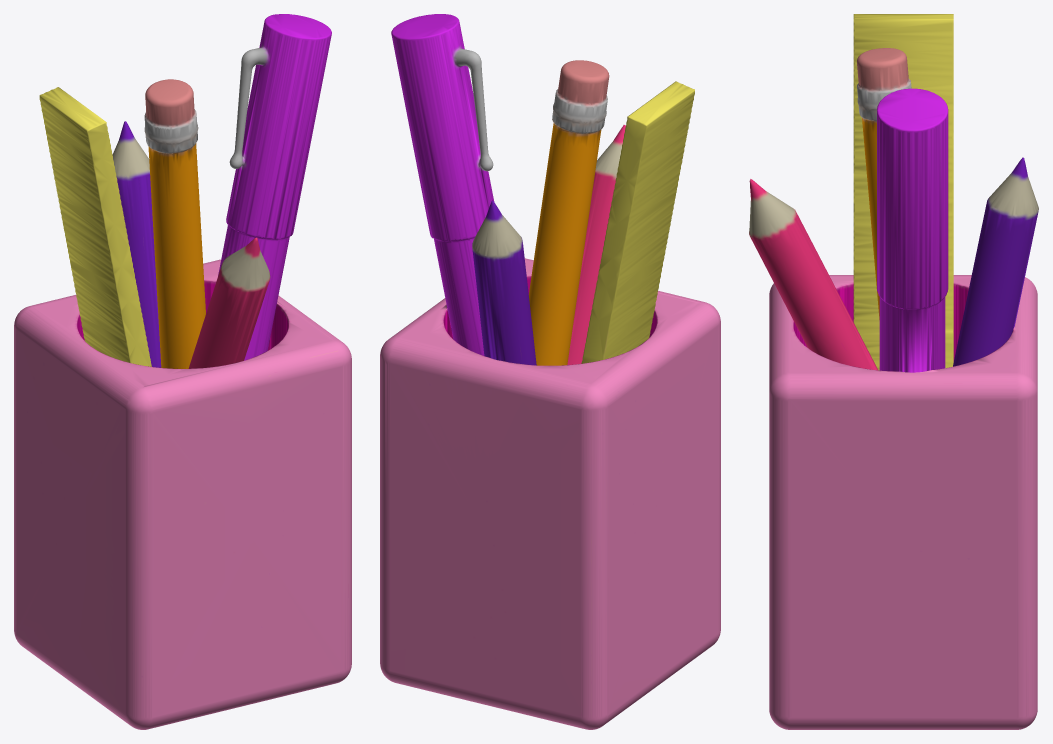
Rendered from Pencilcase.glb.
3 renders of one model, left to right at view 1: azimuth 30°, elevation 25°; view 2: azimuth 150°, elevation 25°; view 3: azimuth 270°, elevation 25°, orthographic. The views are drawn at different scales.
Parts seen in each view (by area): view 1: Area (3); view 2: Area (3); view 3: Area (3).
Part boxes in pixels (<box>): Area (3): <box>14,14,351,729</box>; Area (3): <box>380,14,720,729</box>; Area (3): <box>749,14,1038,729</box>.
Size of the model in its own units: 322 by 704 by 289.
2 materials, 1 textured.
